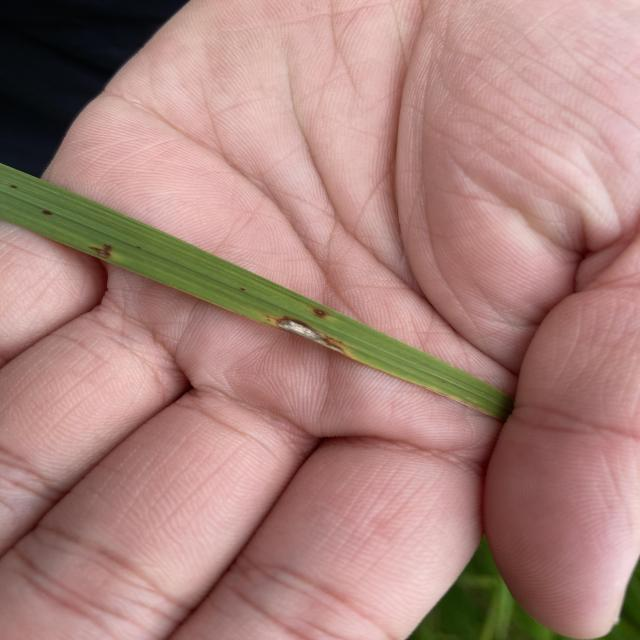Dao on: (265, 314, 356, 359), (90, 244, 112, 259), (310, 306, 328, 319)
